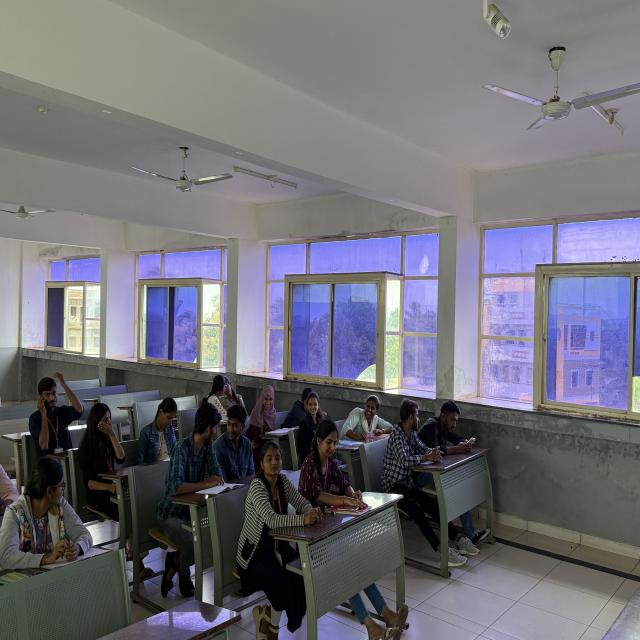Using Phone: (24, 366, 84, 461), (422, 394, 479, 457)
